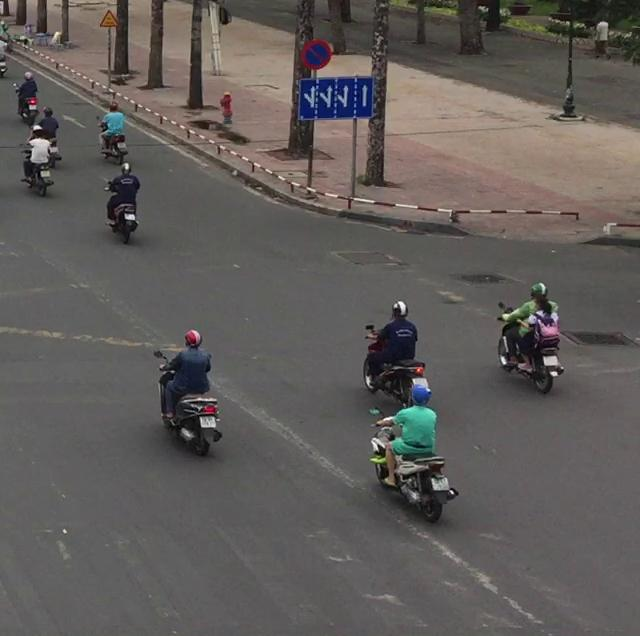Motorcycle: (368, 407, 458, 522), (153, 349, 222, 456), (495, 301, 564, 394), (362, 324, 428, 407), (102, 177, 139, 244), (19, 143, 55, 196), (95, 115, 128, 164), (12, 82, 39, 123)
